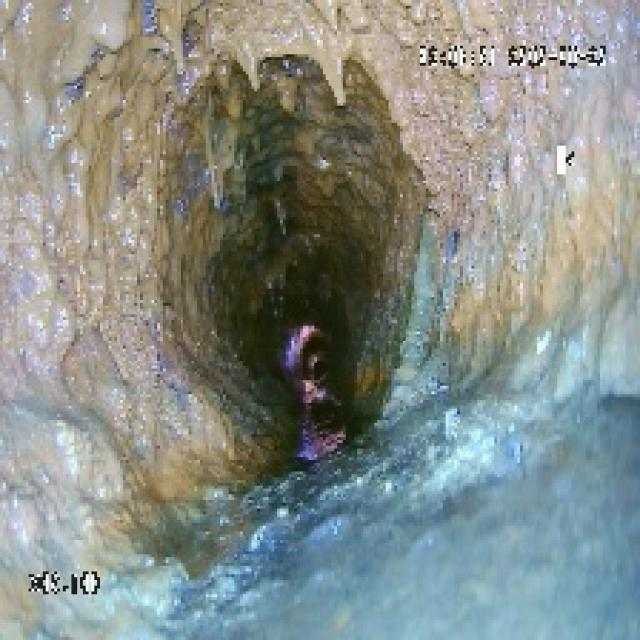encrustation: (34, 20, 534, 440)
